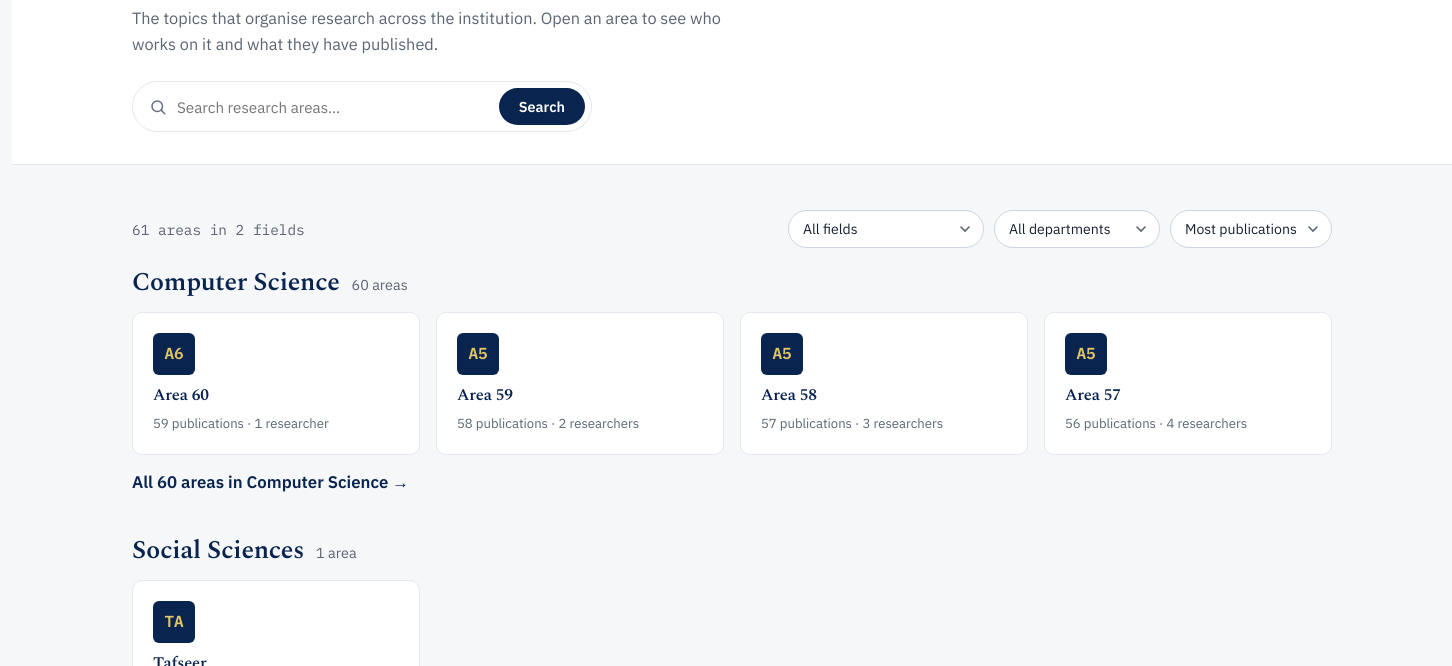
Scenario: Research areas › filters by department through the URL
The width and height of the screenshot is (1452, 666).
Select "Psychology" in the dropdown named "Filter by department" at [1077, 229], box 994,210 -> 1160,248
(page scrolled)
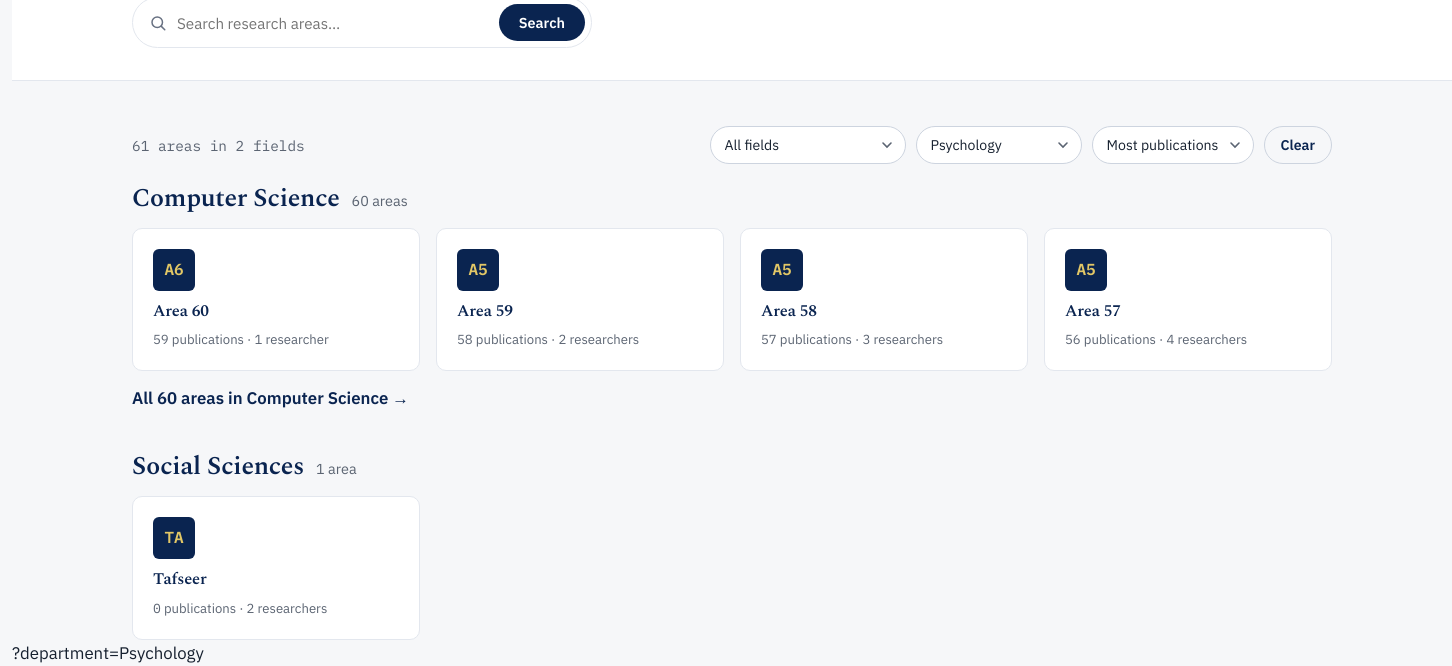
Result: the text with test id "where" reads "?department=Psychology" at 12,642 -> 204,664
